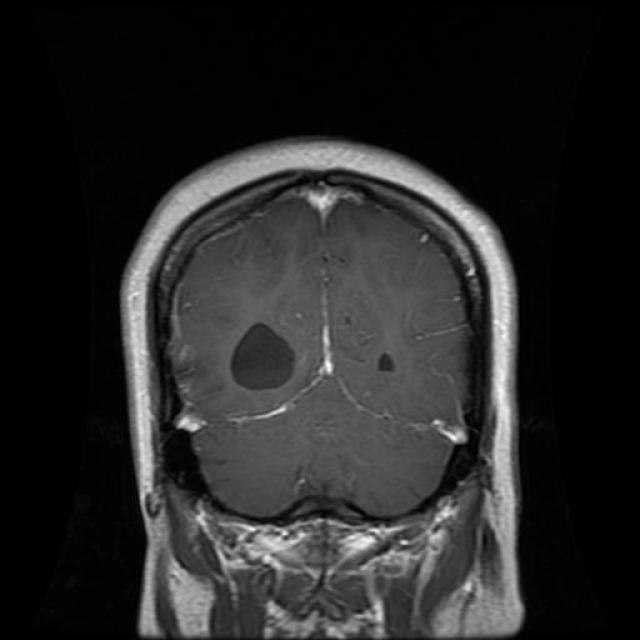glioma: (224, 316, 305, 396)
